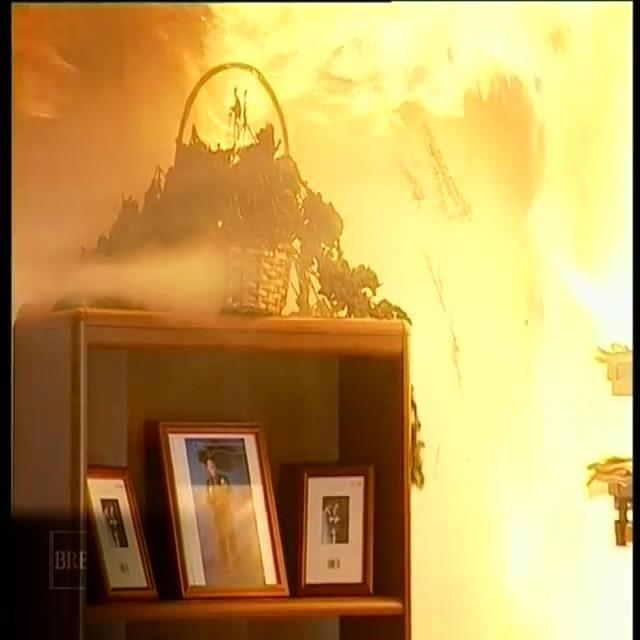Fire: (113, 42, 640, 390)
